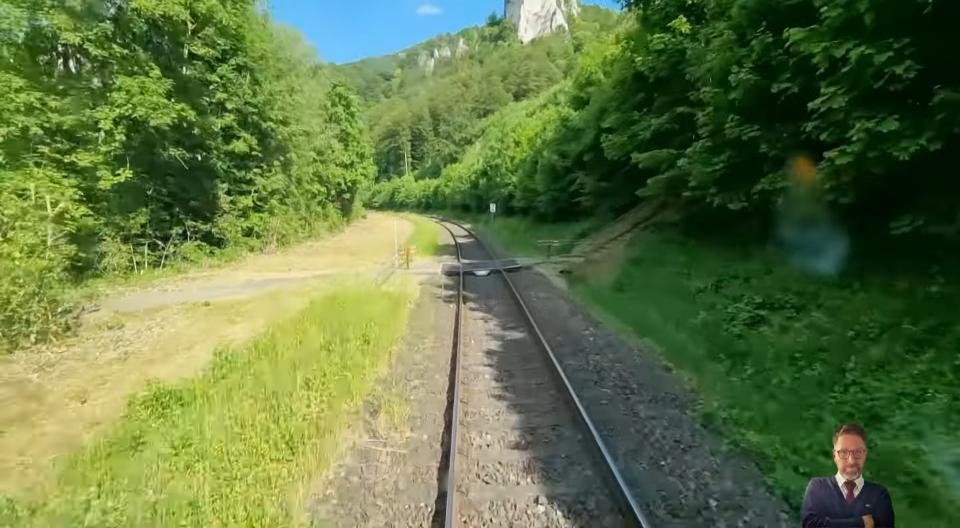Plant: (363, 383, 414, 440)
